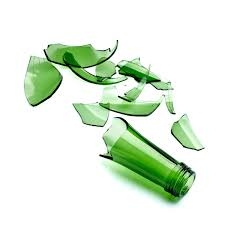glass: (95, 114, 199, 200), (40, 32, 124, 70), (58, 47, 128, 85), (20, 52, 65, 109), (169, 112, 210, 152), (115, 52, 163, 84), (98, 97, 168, 118), (69, 95, 111, 128), (118, 75, 151, 103), (91, 56, 121, 79), (150, 72, 177, 93), (163, 91, 177, 115)
